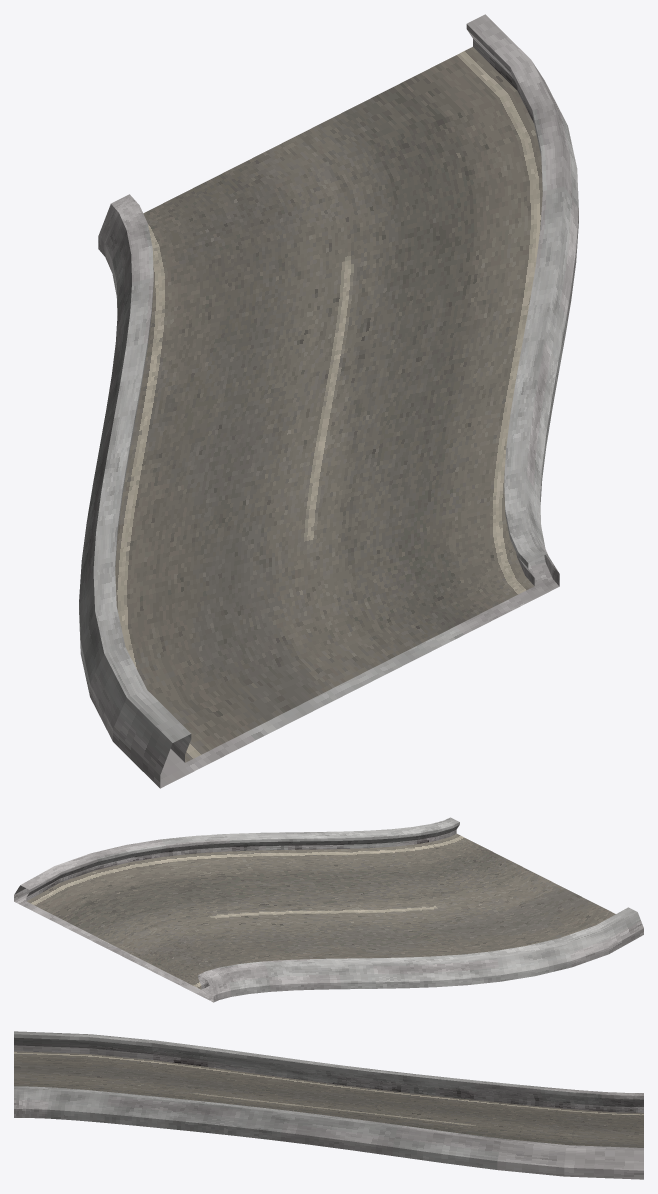
File: chicane-right1x2.glb
The picture shows the model from 3 angles, top to bottom: view 1: azimuth 30°, elevation 25°; view 2: azimuth 150°, elevation 25°; view 3: azimuth 270°, elevation 25°; orthographic projection. The views are drawn at different scales.
Parts seen in each view (by area): view 1: road-Chicane-HalfBankedLeft-HalfBankedLeft-Up1-Right1-Size2; view 2: road-Chicane-HalfBankedLeft-HalfBankedLeft-Up1-Right1-Size2; view 3: road-Chicane-HalfBankedLeft-HalfBankedLeft-Up1-Right1-Size2.
Part boxes in pixels (bbox=[...]): road-Chicane-HalfBankedLeft-HalfBankedLeft-Up1-Right1-Size2: bbox=[79, 14, 578, 788]; road-Chicane-HalfBankedLeft-HalfBankedLeft-Up1-Right1-Size2: bbox=[14, 817, 643, 1002]; road-Chicane-HalfBankedLeft-HalfBankedLeft-Up1-Right1-Size2: bbox=[14, 1031, 643, 1179].
Size of the model in its own units: 2 by 0.5859 by 2.
2 materials, 2 textured.
